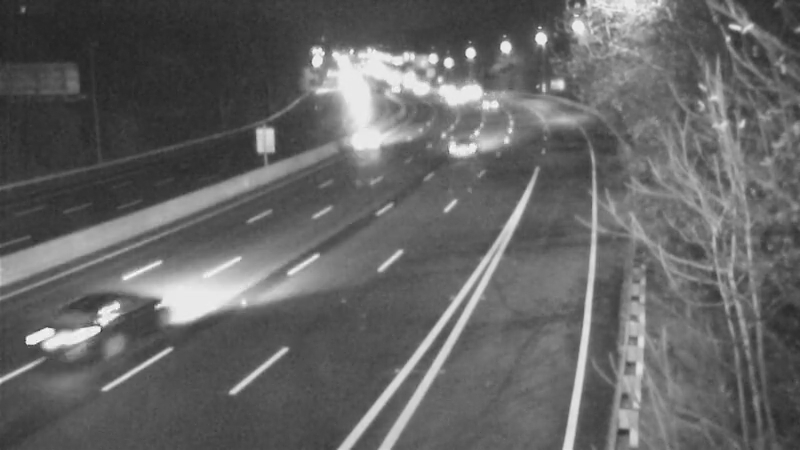vehicle: (14, 287, 124, 397), (444, 65, 494, 115), (423, 71, 473, 121), (467, 78, 517, 128), (337, 118, 387, 168), (444, 117, 494, 167)
